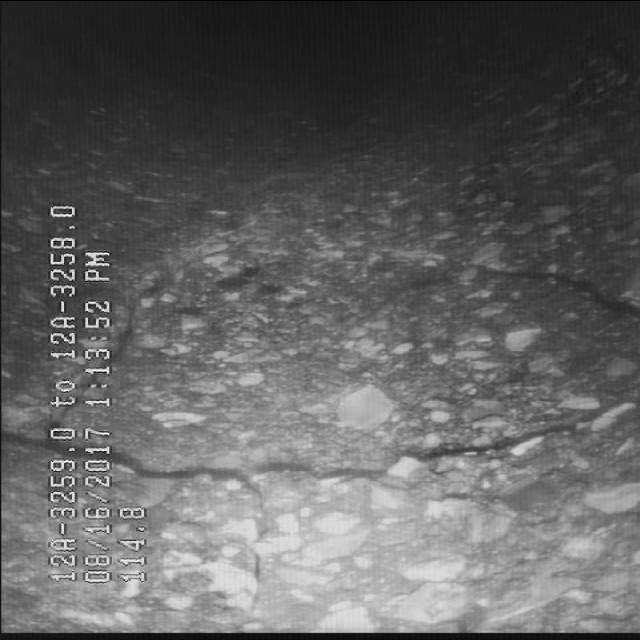Crack: (155, 354, 594, 548)
